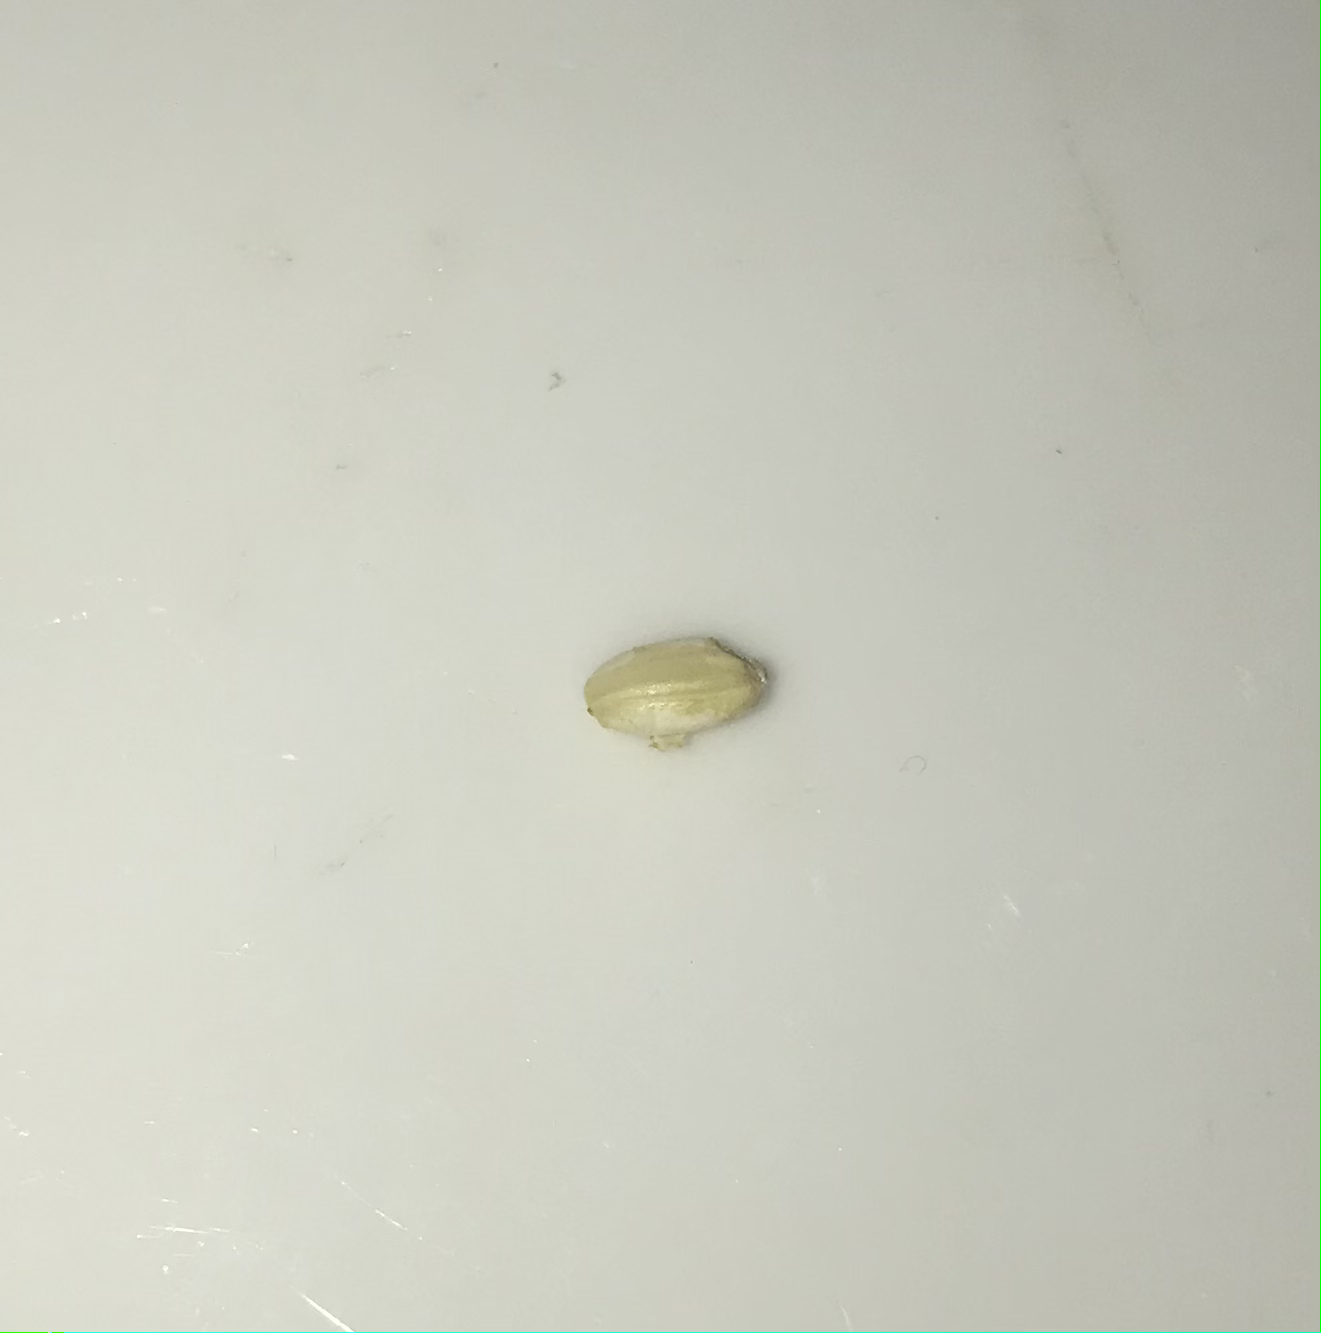Gao Lut Bac: (578, 622, 781, 760)
